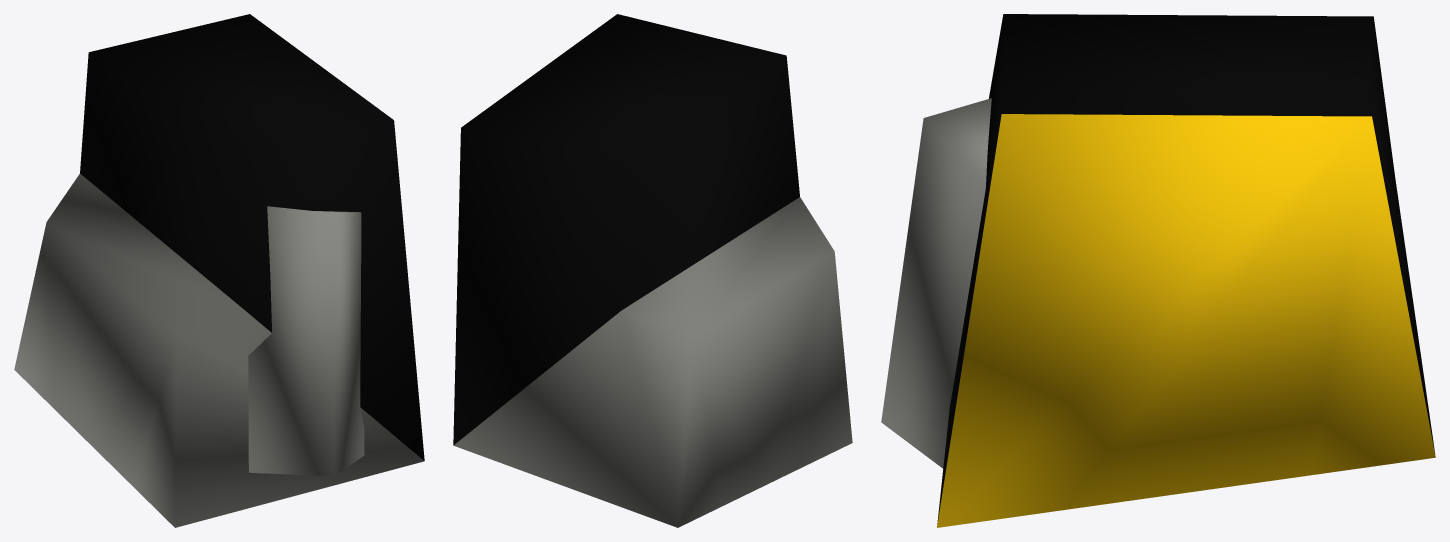
The model's file is HandLeft.obj.
3 views of the same model, side by side, from view 1: azimuth 30°, elevation 25°; view 2: azimuth 150°, elevation 25°; view 3: azimuth 270°, elevation 25° (orthographic). The views are drawn at different scales.
Size of the model in its own units: 1.05 by 1.57 by 1.76.
1 material, 1 textured.
